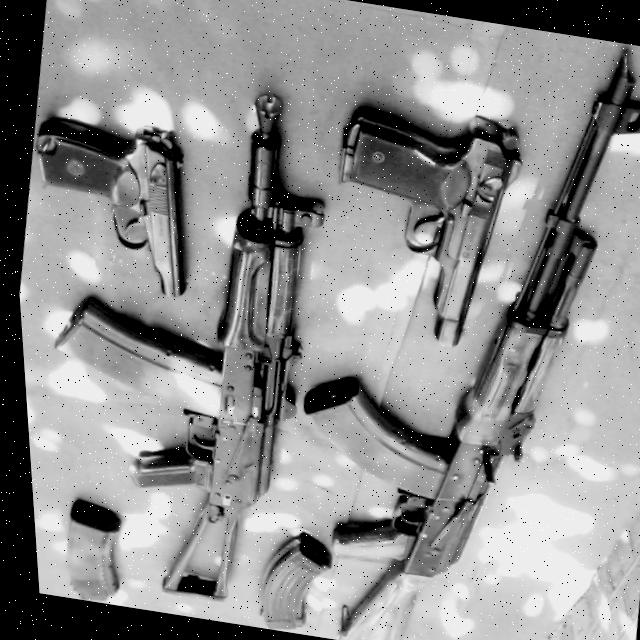firearm: (237, 0, 640, 640), (3, 63, 363, 612)
pistol: (303, 76, 540, 358), (11, 108, 211, 304)
